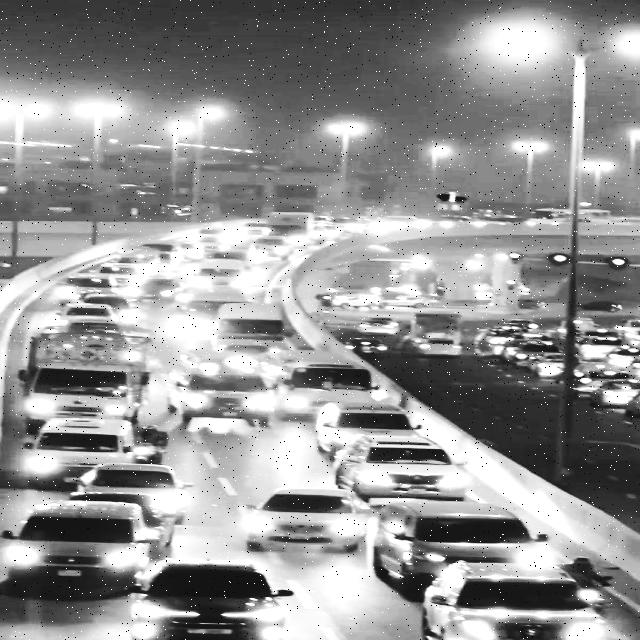Ambulance: (163, 350, 280, 426)
